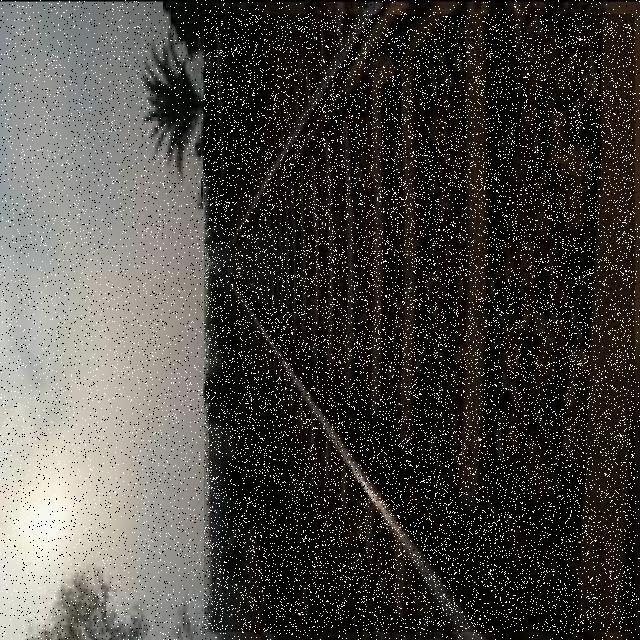rail: (205, 15, 636, 633)
